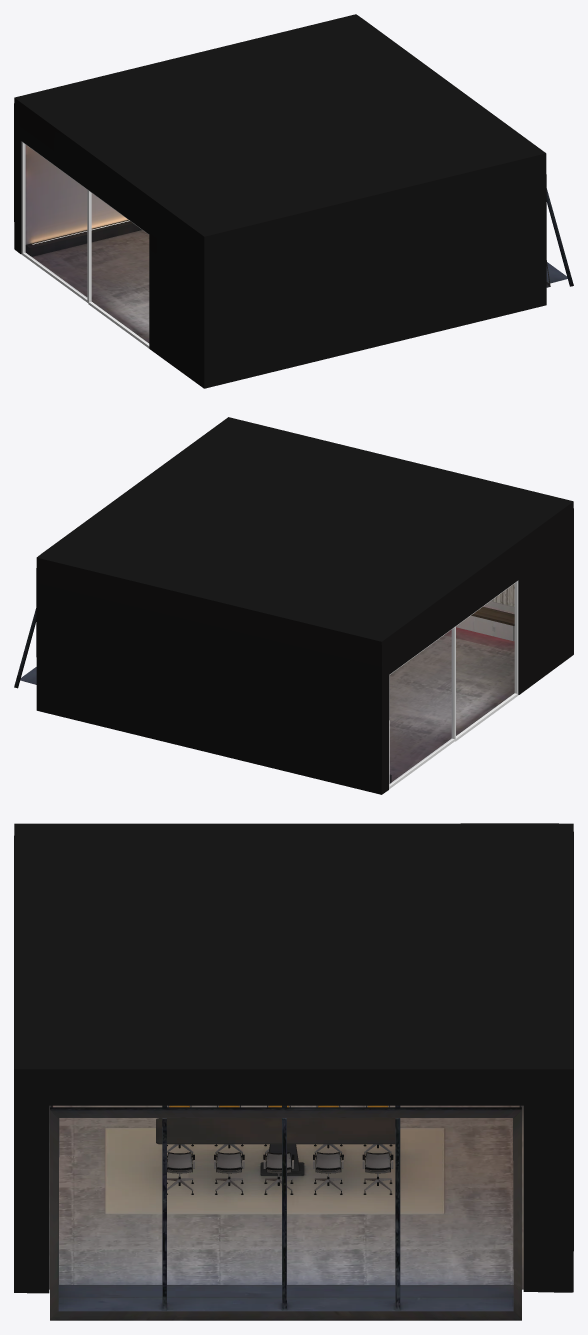
File: RuangGuru.glb
3 views of the same model, one above another, from view 1: azimuth 30°, elevation 25°; view 2: azimuth 150°, elevation 25°; view 3: azimuth 270°, elevation 25° (orthographic). The views are drawn at different scales.
Visible parts, largest first — view 1: mur ext_noir_0, bureau_sol__baked_meeting_sol__0, bureaux_murs_baked_meeting_mur_0, cadre_gris base_0; view 2: mur ext_noir_0, bureau_sol__baked_meeting_sol__0, bureaux_murs_baked_meeting_mur_0, cadre_gris base_0; view 3: mur ext_noir_0, bureau_sol__baked_meeting_sol__0, bureaux_murs_baked_meeting_mur_0.
Part boxes in pixels (bbox=[...]): mur ext_noir_0: bbox=[14, 14, 546, 388]; bureau_sol__baked_meeting_sol__0: bbox=[25, 220, 149, 343]; bureaux_murs_baked_meeting_mur_0: bbox=[25, 145, 573, 287]; cadre_gris base_0: bbox=[21, 141, 149, 348]; mur ext_noir_0: bbox=[36, 417, 573, 794]; bureau_sol__baked_meeting_sol__0: bbox=[389, 600, 514, 783]; bureaux_murs_baked_meeting_mur_0: bbox=[14, 584, 514, 688]; cadre_gris base_0: bbox=[389, 580, 518, 789]; mur ext_noir_0: bbox=[14, 823, 573, 1293]; bureau_sol__baked_meeting_sol__0: bbox=[49, 1105, 523, 1289]; bureaux_murs_baked_meeting_mur_0: bbox=[50, 1105, 521, 1320].
Size of the model in its own units: 12.41 by 4.75 by 10.69.
Materials: 6 (2 with a texture image).
